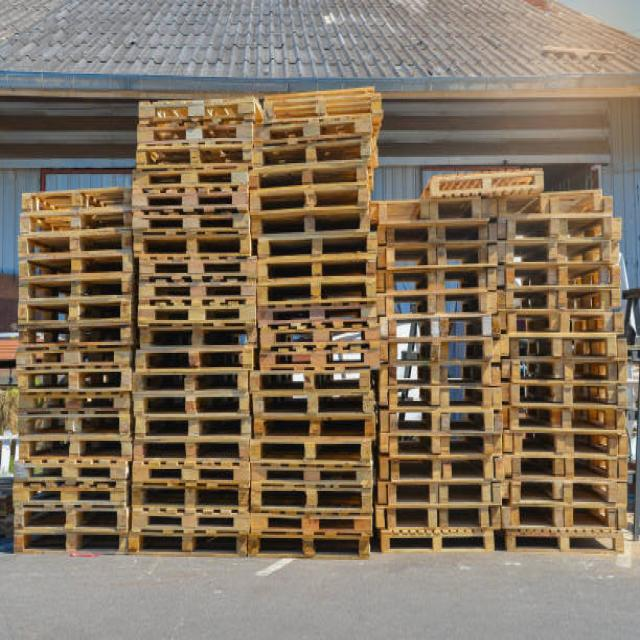Wooden-Pallets: (512, 418, 630, 453), (128, 498, 242, 533), (380, 310, 494, 344), (510, 528, 626, 560), (243, 181, 365, 210), (130, 342, 252, 371), (133, 432, 249, 462), (132, 96, 256, 124), (128, 184, 248, 212), (248, 388, 371, 415), (367, 531, 493, 556), (258, 232, 376, 256), (251, 282, 376, 304), (10, 506, 124, 530), (250, 436, 366, 459), (381, 431, 492, 455), (428, 171, 546, 193), (11, 236, 135, 256), (7, 299, 135, 318), (257, 121, 380, 140)
